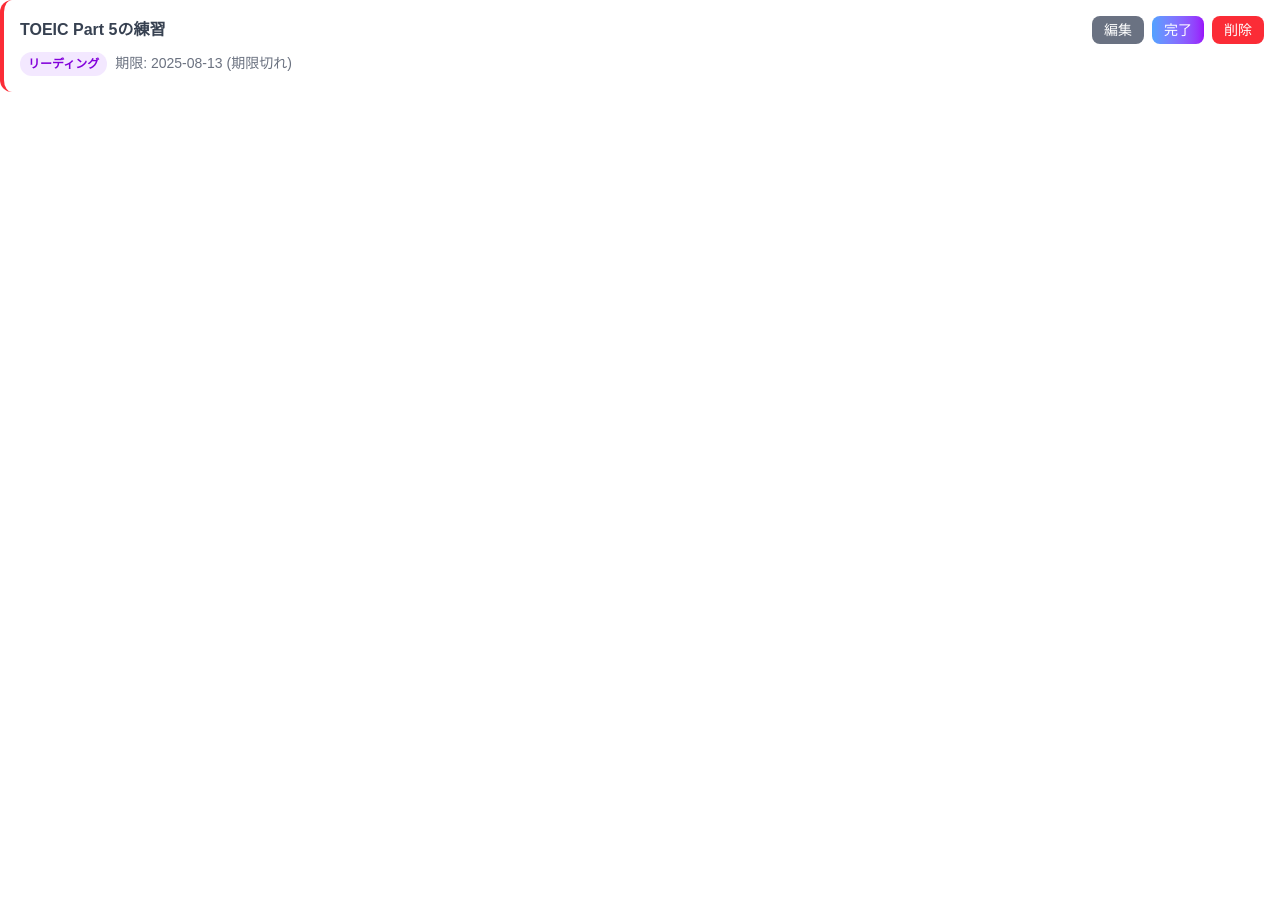
Test: タスク削除機能 › 削除ボタンをクリックしたとき、モーダルが表示され、キャンセルを選択した場合、タスクが削除されないこと
The width and height of the screenshot is (1280, 900).
Click the button "削除" at (1238, 30), box x1=1212 y1=16 x2=1264 y2=44
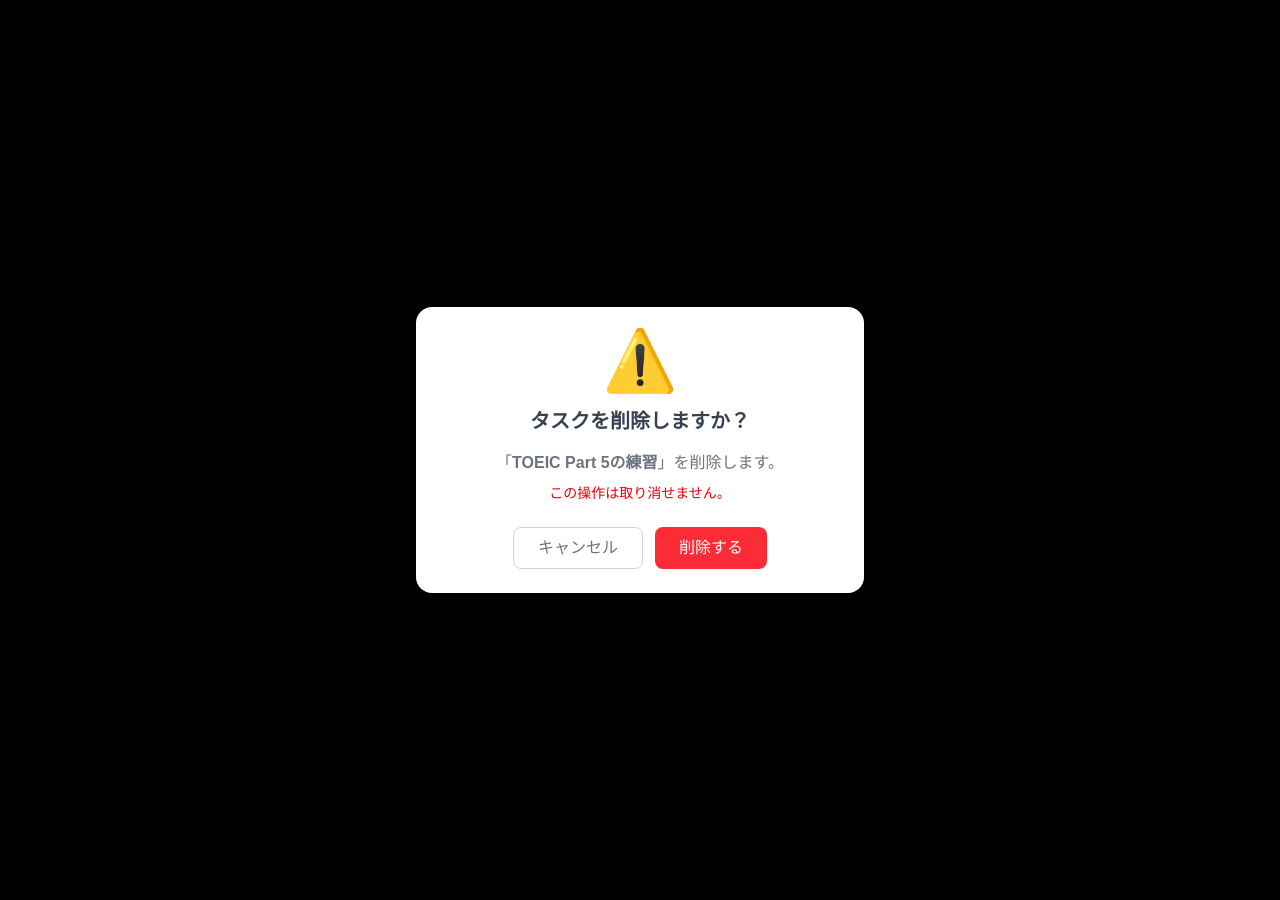
Result: the heading "タスクを削除しますか？" is shown at x1=530 y1=410 x2=750 y2=432
Note: 削除確認ダイアログでOKをクリック
Click the button "キャンセル" at (578, 548), box x1=513 y1=527 x2=643 y2=569
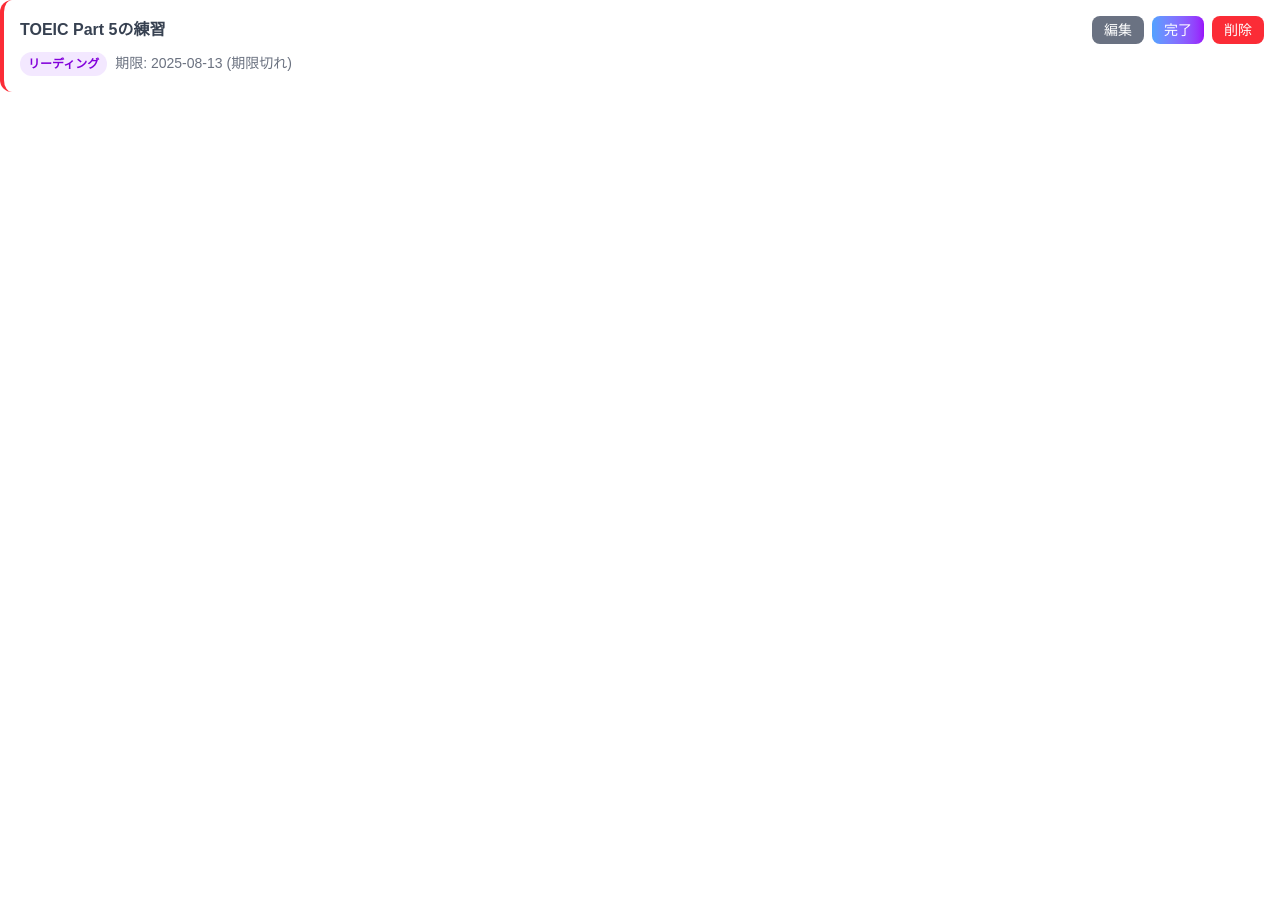
Expected: the heading "TOEIC Part 5の練習" is shown, x1=20 y1=18 x2=166 y2=42
Result: the heading "タスクを削除しますか？" is gone
